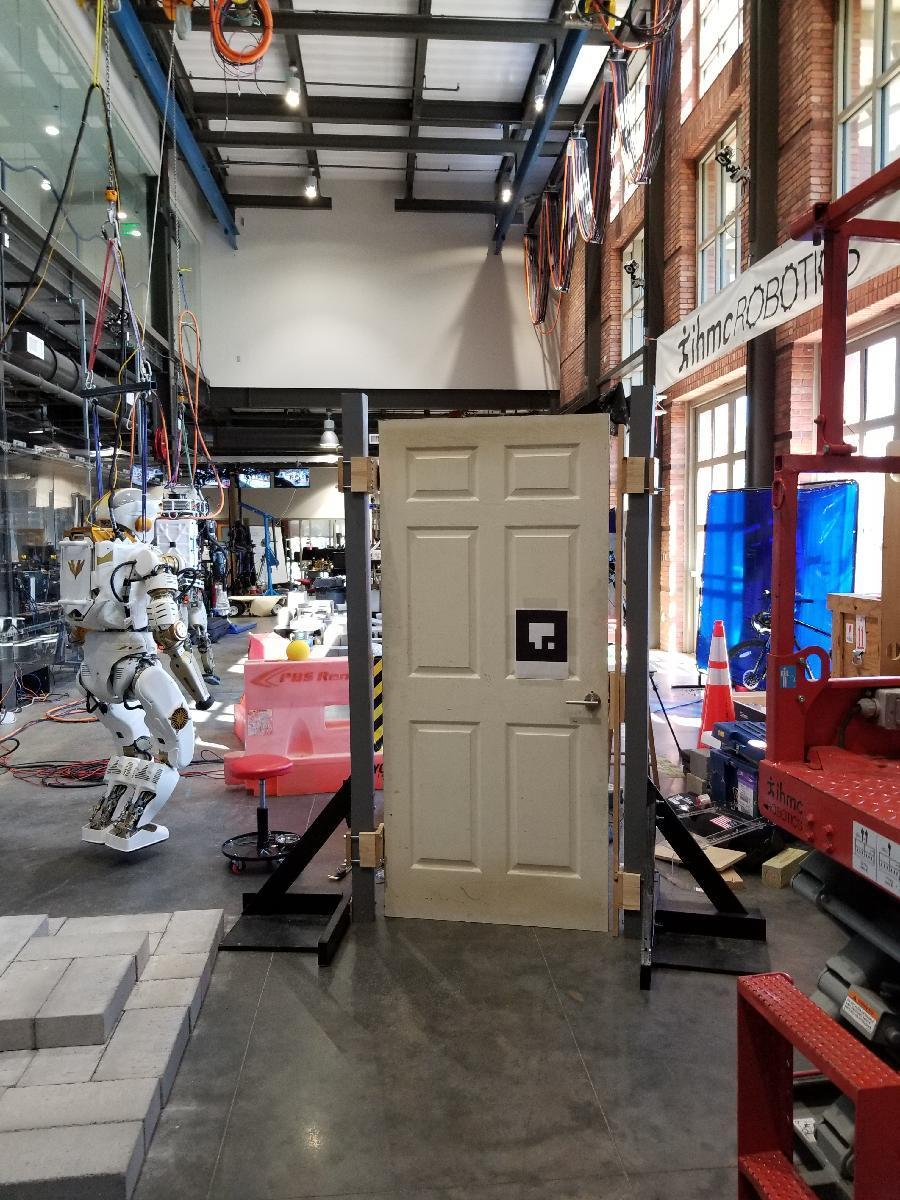door: (378, 408, 622, 931)
handle: (560, 689, 606, 714)
